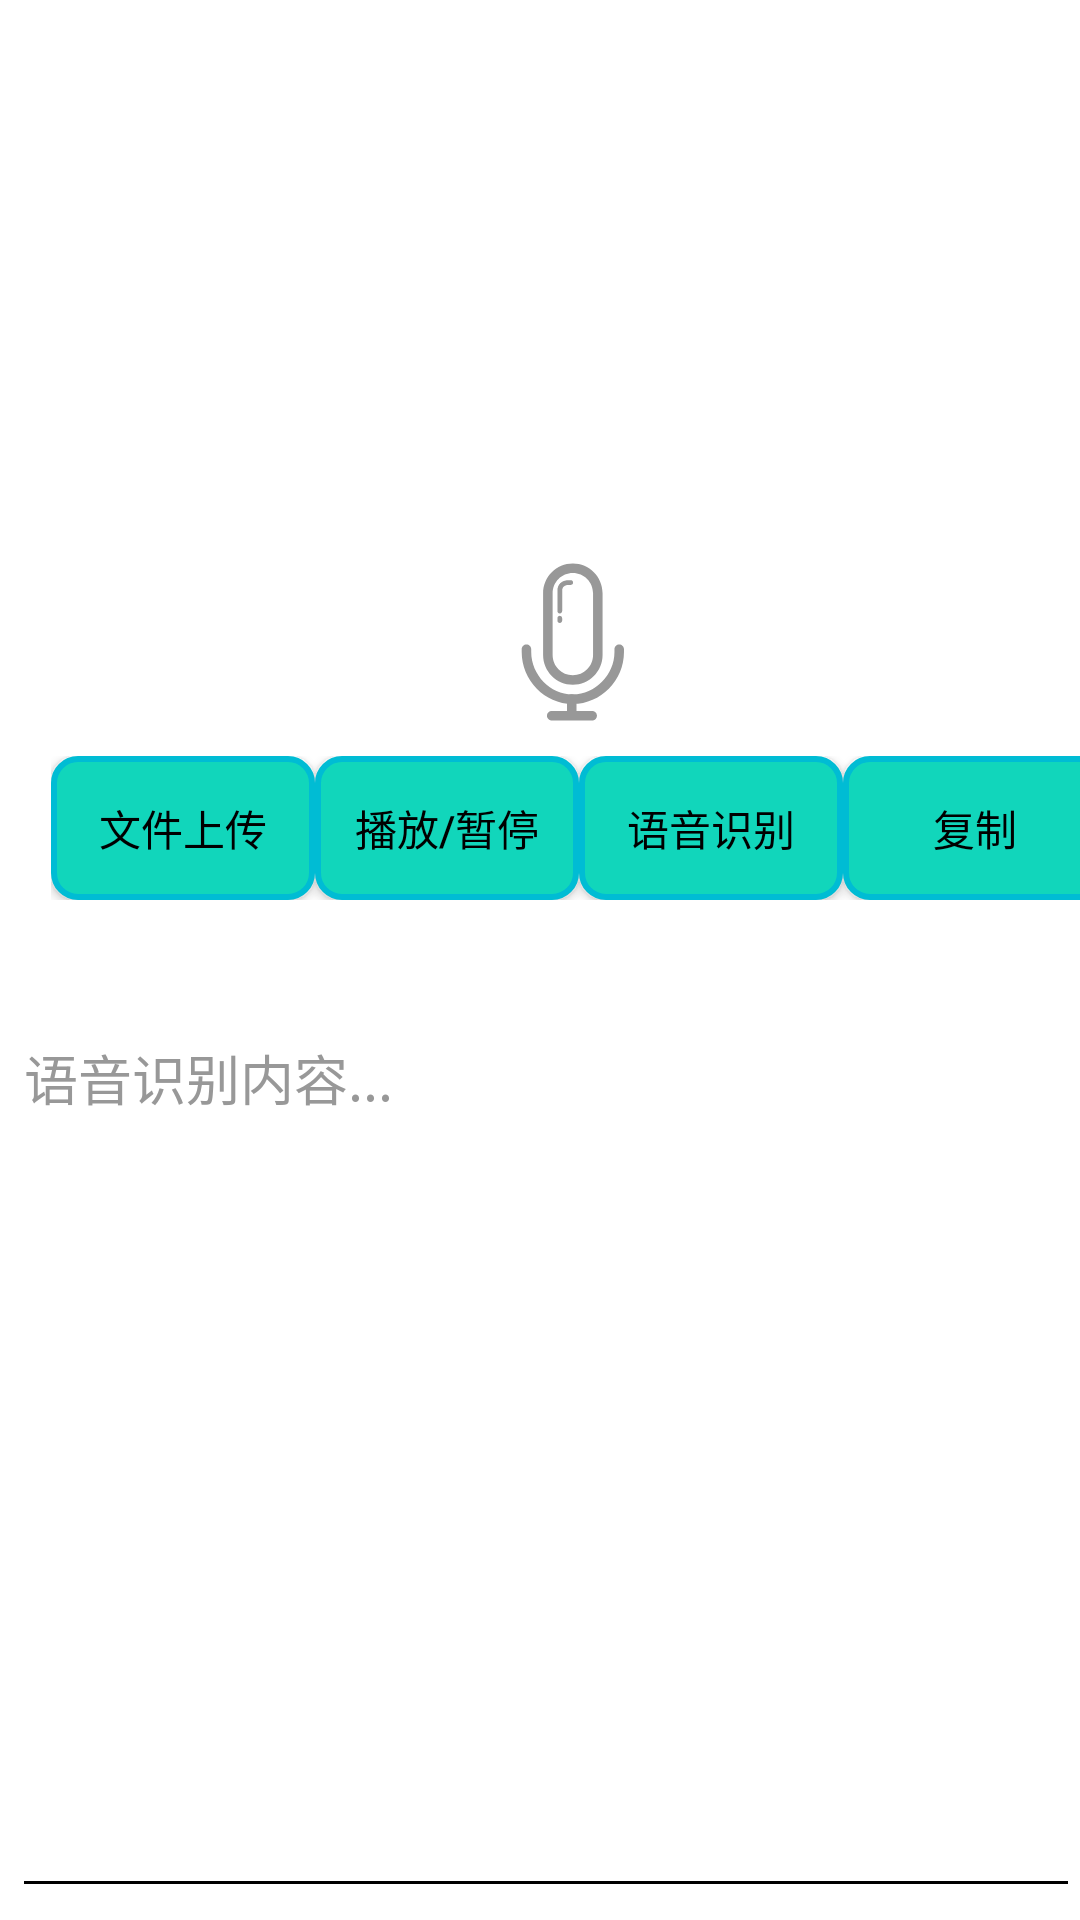

Where to tap for icons on this 1080w x 1920h app screen, as (x=x, y=y):
Microphone Button: (x=572, y=642)
